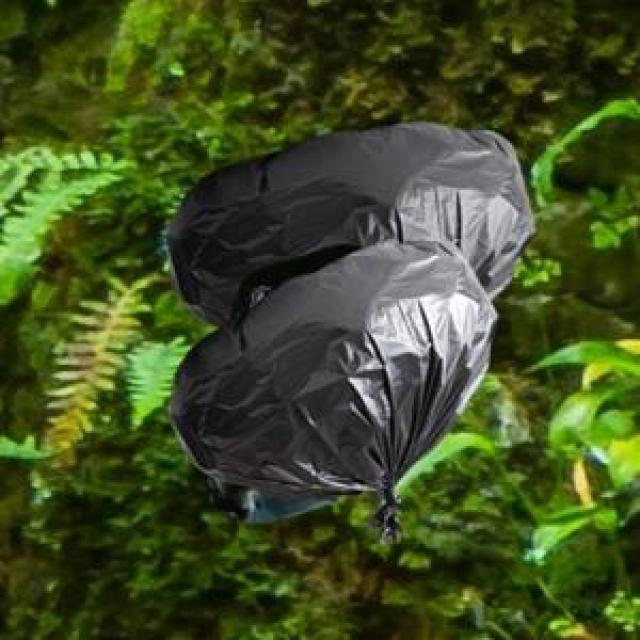Vinyl: (171, 122, 532, 532)
